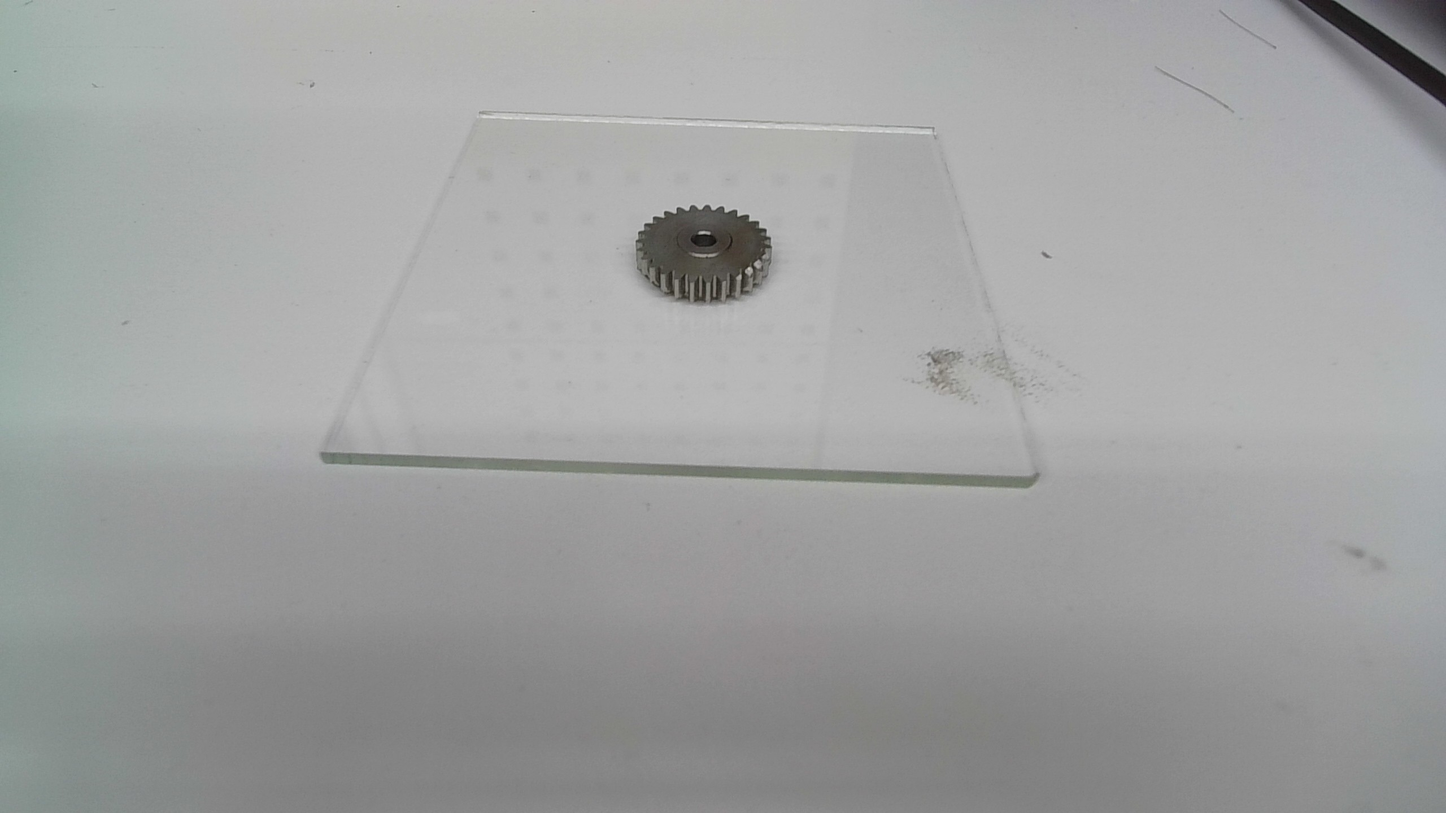gear: (633, 203, 775, 305)
